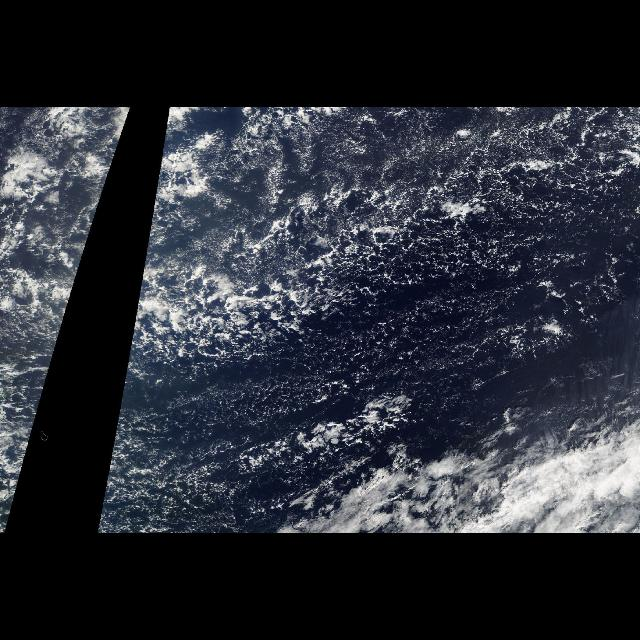Gravel: (98, 112, 640, 532)
Sugar: (299, 116, 583, 182)
